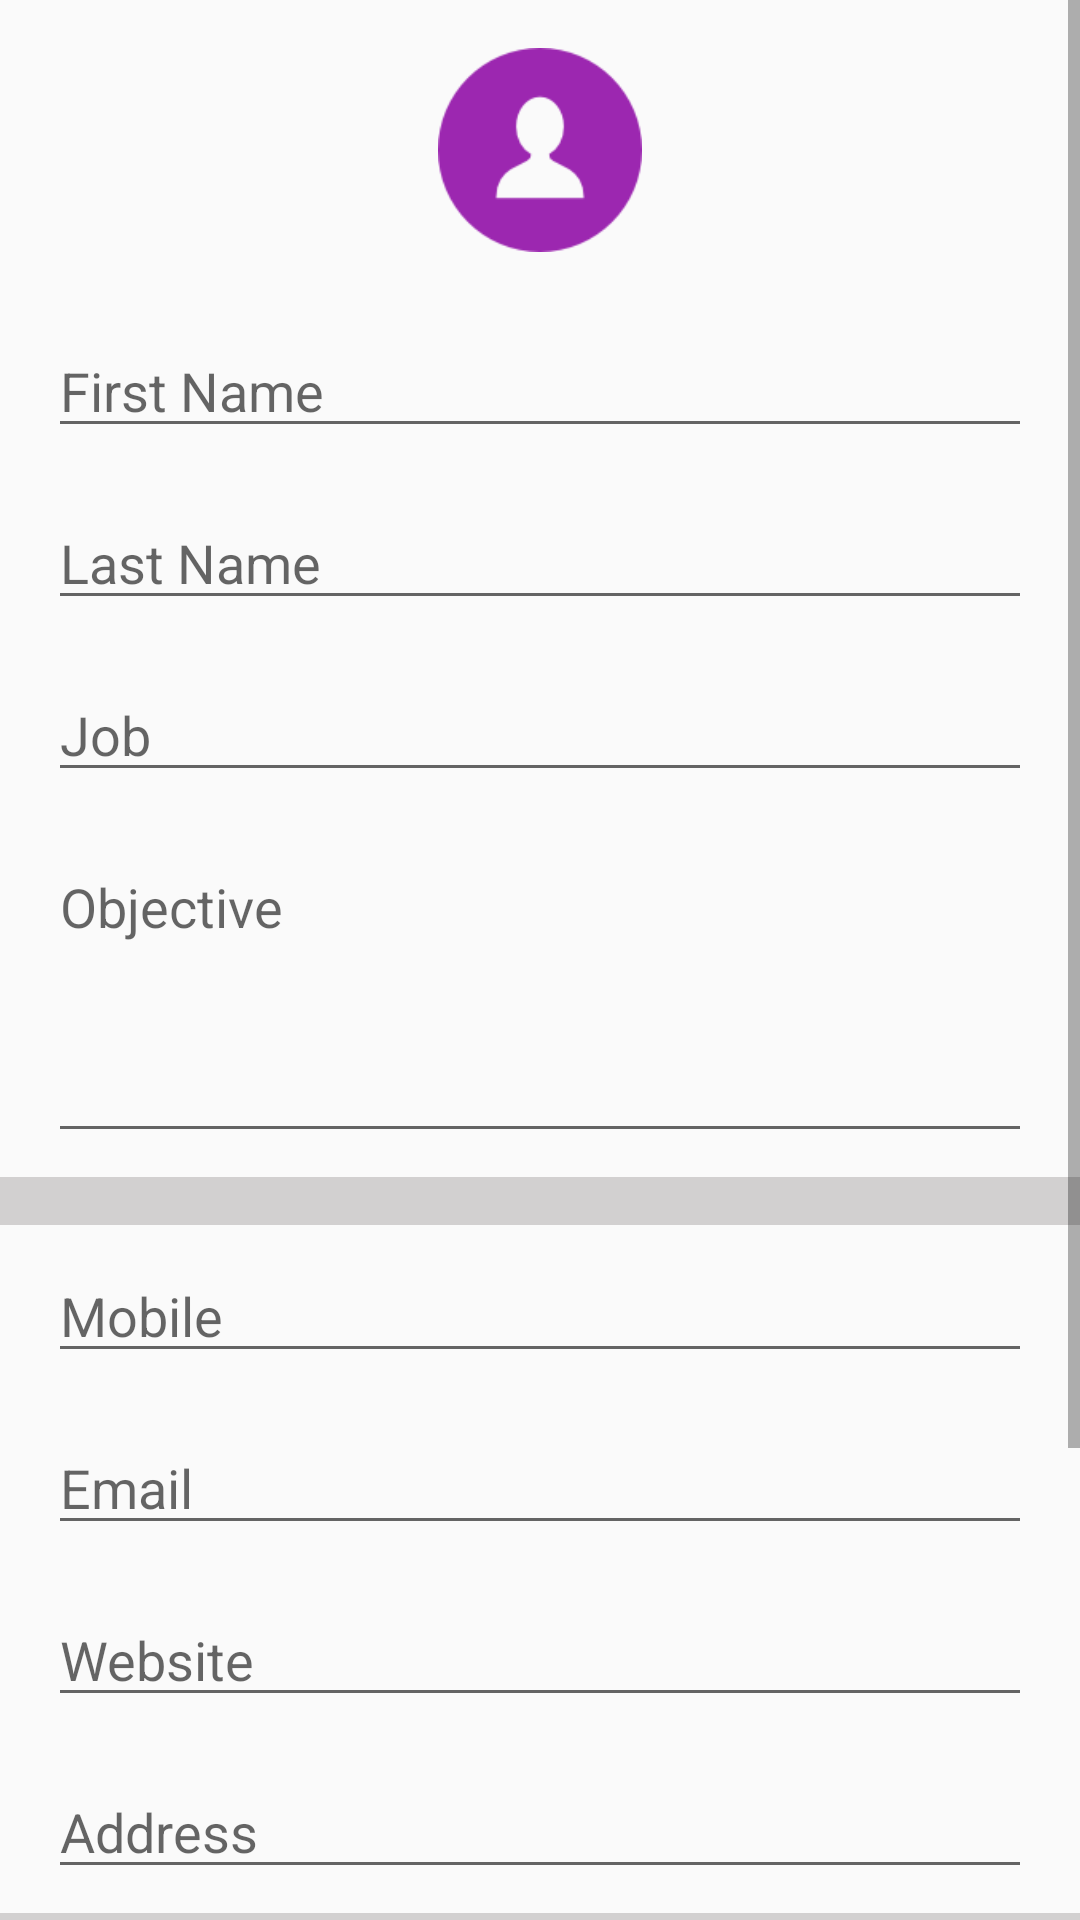

Where icons sit on this 1080w x 1920h app screen, as (x1, y1, x2, y2):
user: (438, 48, 642, 252)
